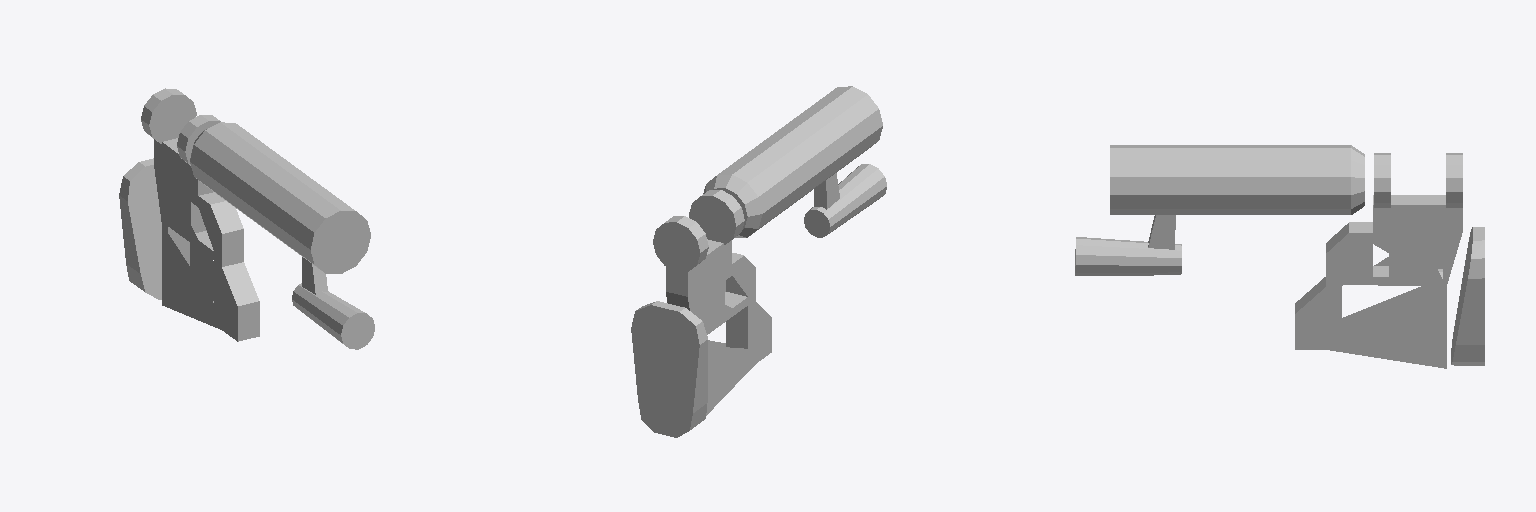
File: Stock31.obj
3 renders of one model, left to right at view 1: azimuth 30°, elevation 25°; view 2: azimuth 150°, elevation 25°; view 3: azimuth 270°, elevation 25°, orthographic.
Parts seen in each view (by area): view 1: Cube.034; view 2: Cube.034; view 3: Cube.034.
Boxes of the visible parts, x1=… form: Cube.034: x1=119, y1=88, x2=374, y2=349; Cube.034: x1=631, y1=86, x2=886, y2=437; Cube.034: x1=1075, y1=145, x2=1484, y2=368.
Size of the model in its own units: 0.1369 by 0.4095 by 0.708.